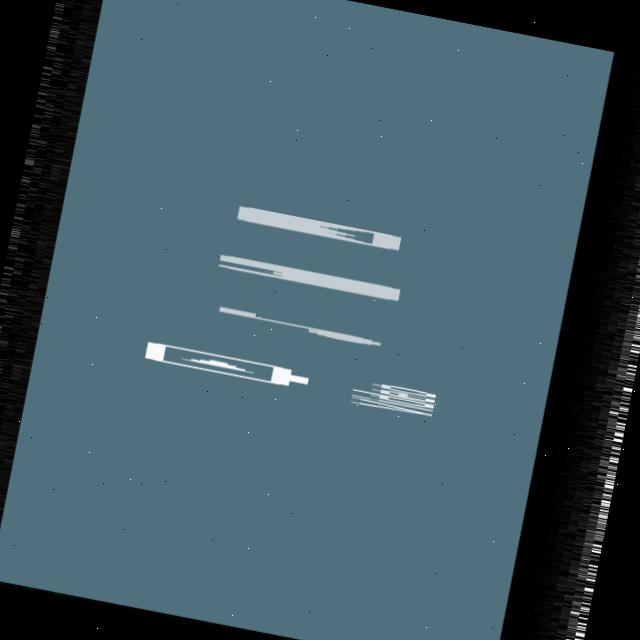QLabel: (345, 376, 451, 422)
VBottomNavigation: (0, 0, 631, 640)
VIcon: (206, 249, 421, 306), (130, 337, 332, 395), (216, 200, 420, 254), (208, 303, 391, 350)
